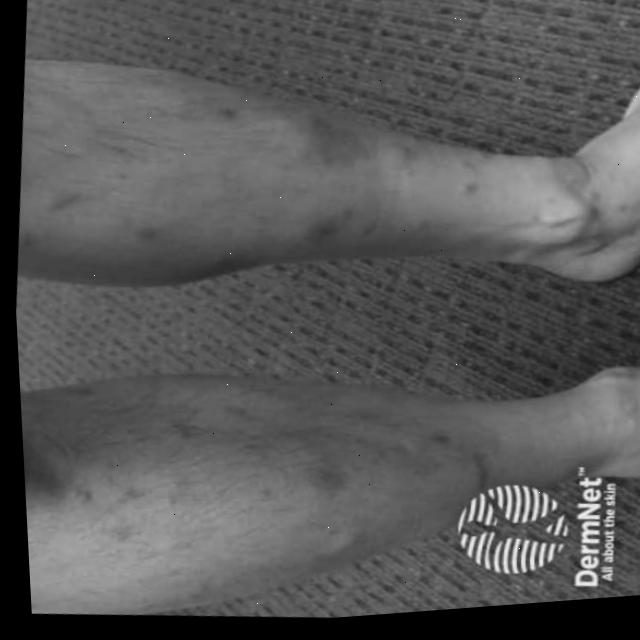Eczema: (200, 104, 623, 252), (99, 383, 392, 587)
